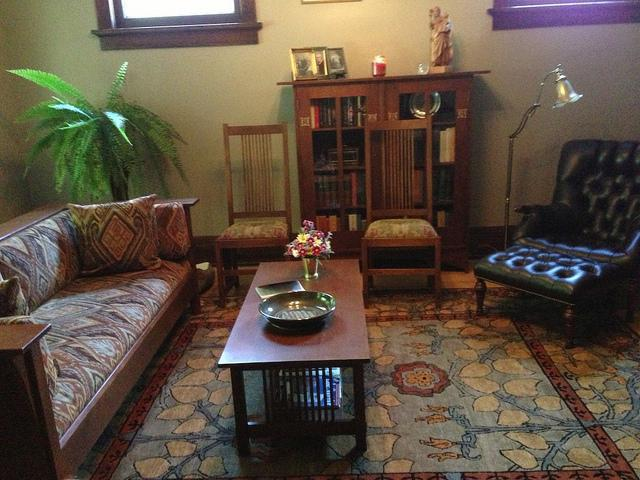Matera: (32, 62, 188, 299)
